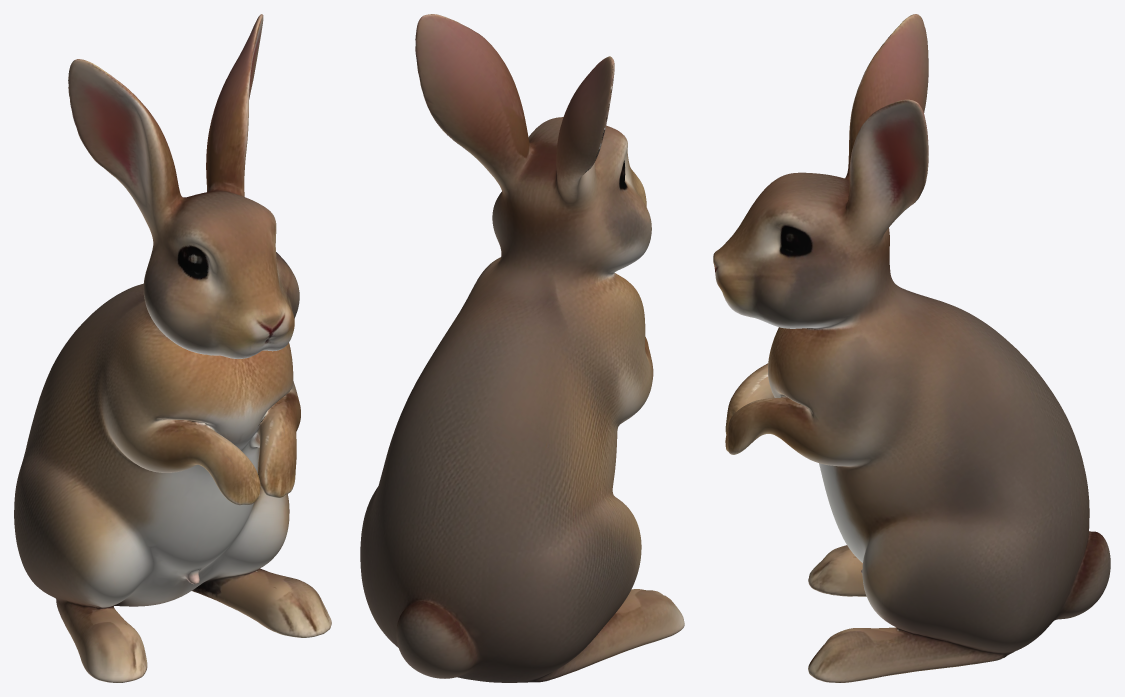
File: rabbit_sitting_up.glb
The picture shows the model from 3 angles, left to right: view 1: azimuth 30°, elevation 25°; view 2: azimuth 150°, elevation 25°; view 3: azimuth 270°, elevation 25°; orthographic projection. The views are drawn at different scales.
Parts seen in each view (by area): view 1: model; view 2: model; view 3: model.
Boxes of the visible parts, <box> form: model: <box>14,14,331,682</box>; model: <box>360,14,684,682</box>; model: <box>713,14,1110,682</box>.
Bounding box in the file's own units: 0.8062 × 1.9 × 1.2.
1 material, 1 textured.
